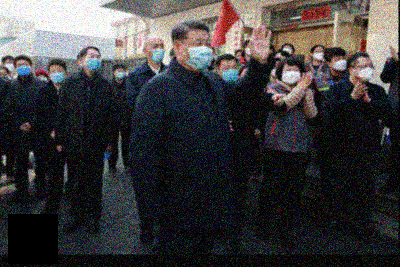with_mask: (178, 36, 211, 71), (147, 40, 164, 63), (281, 65, 300, 84), (220, 62, 239, 81), (355, 62, 373, 82), (84, 52, 101, 72), (331, 55, 346, 71), (15, 60, 29, 77), (49, 68, 63, 84), (312, 48, 324, 61), (113, 68, 125, 80), (280, 46, 291, 56), (5, 59, 13, 72)
